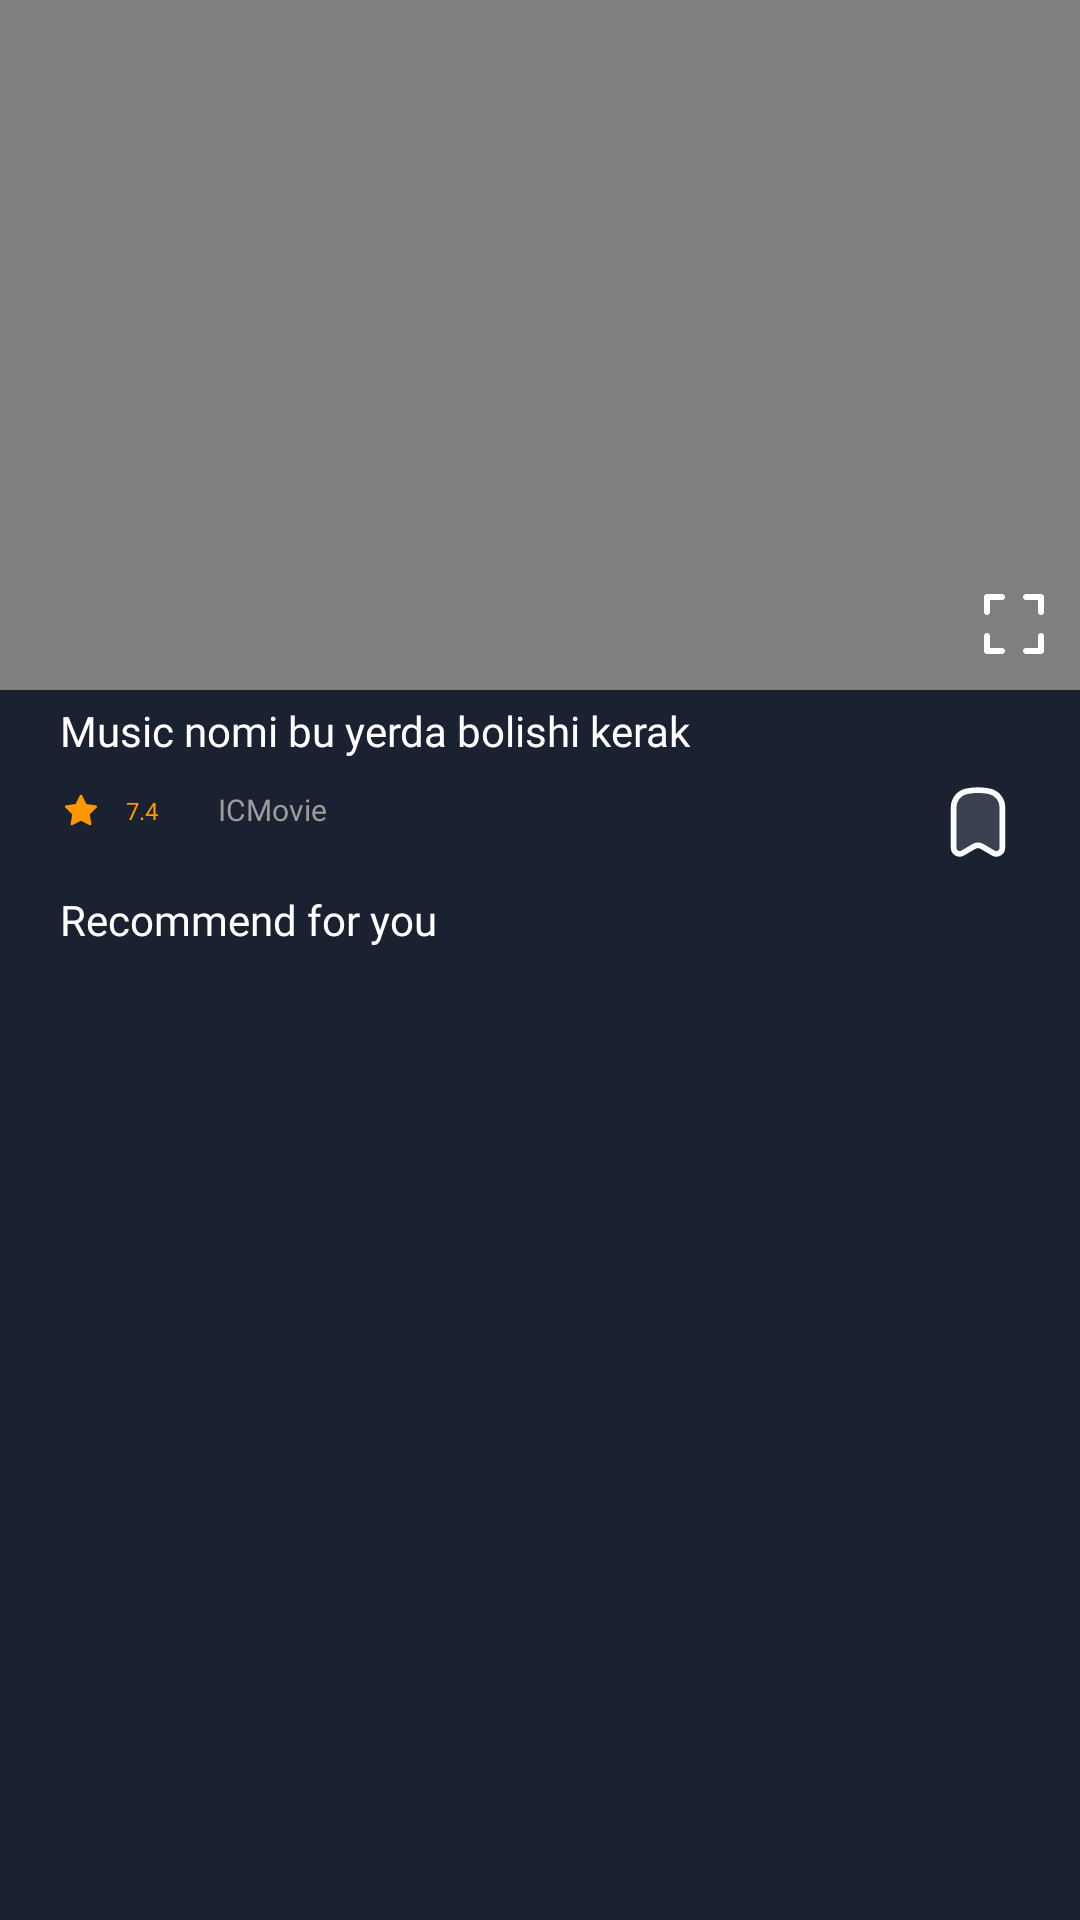

Where icons sit on this 1080 × 1920 app screen, as (x1,y1,x2,y2):
saved: (950,787,1006,857)
star rate: (65,794,97,826)
